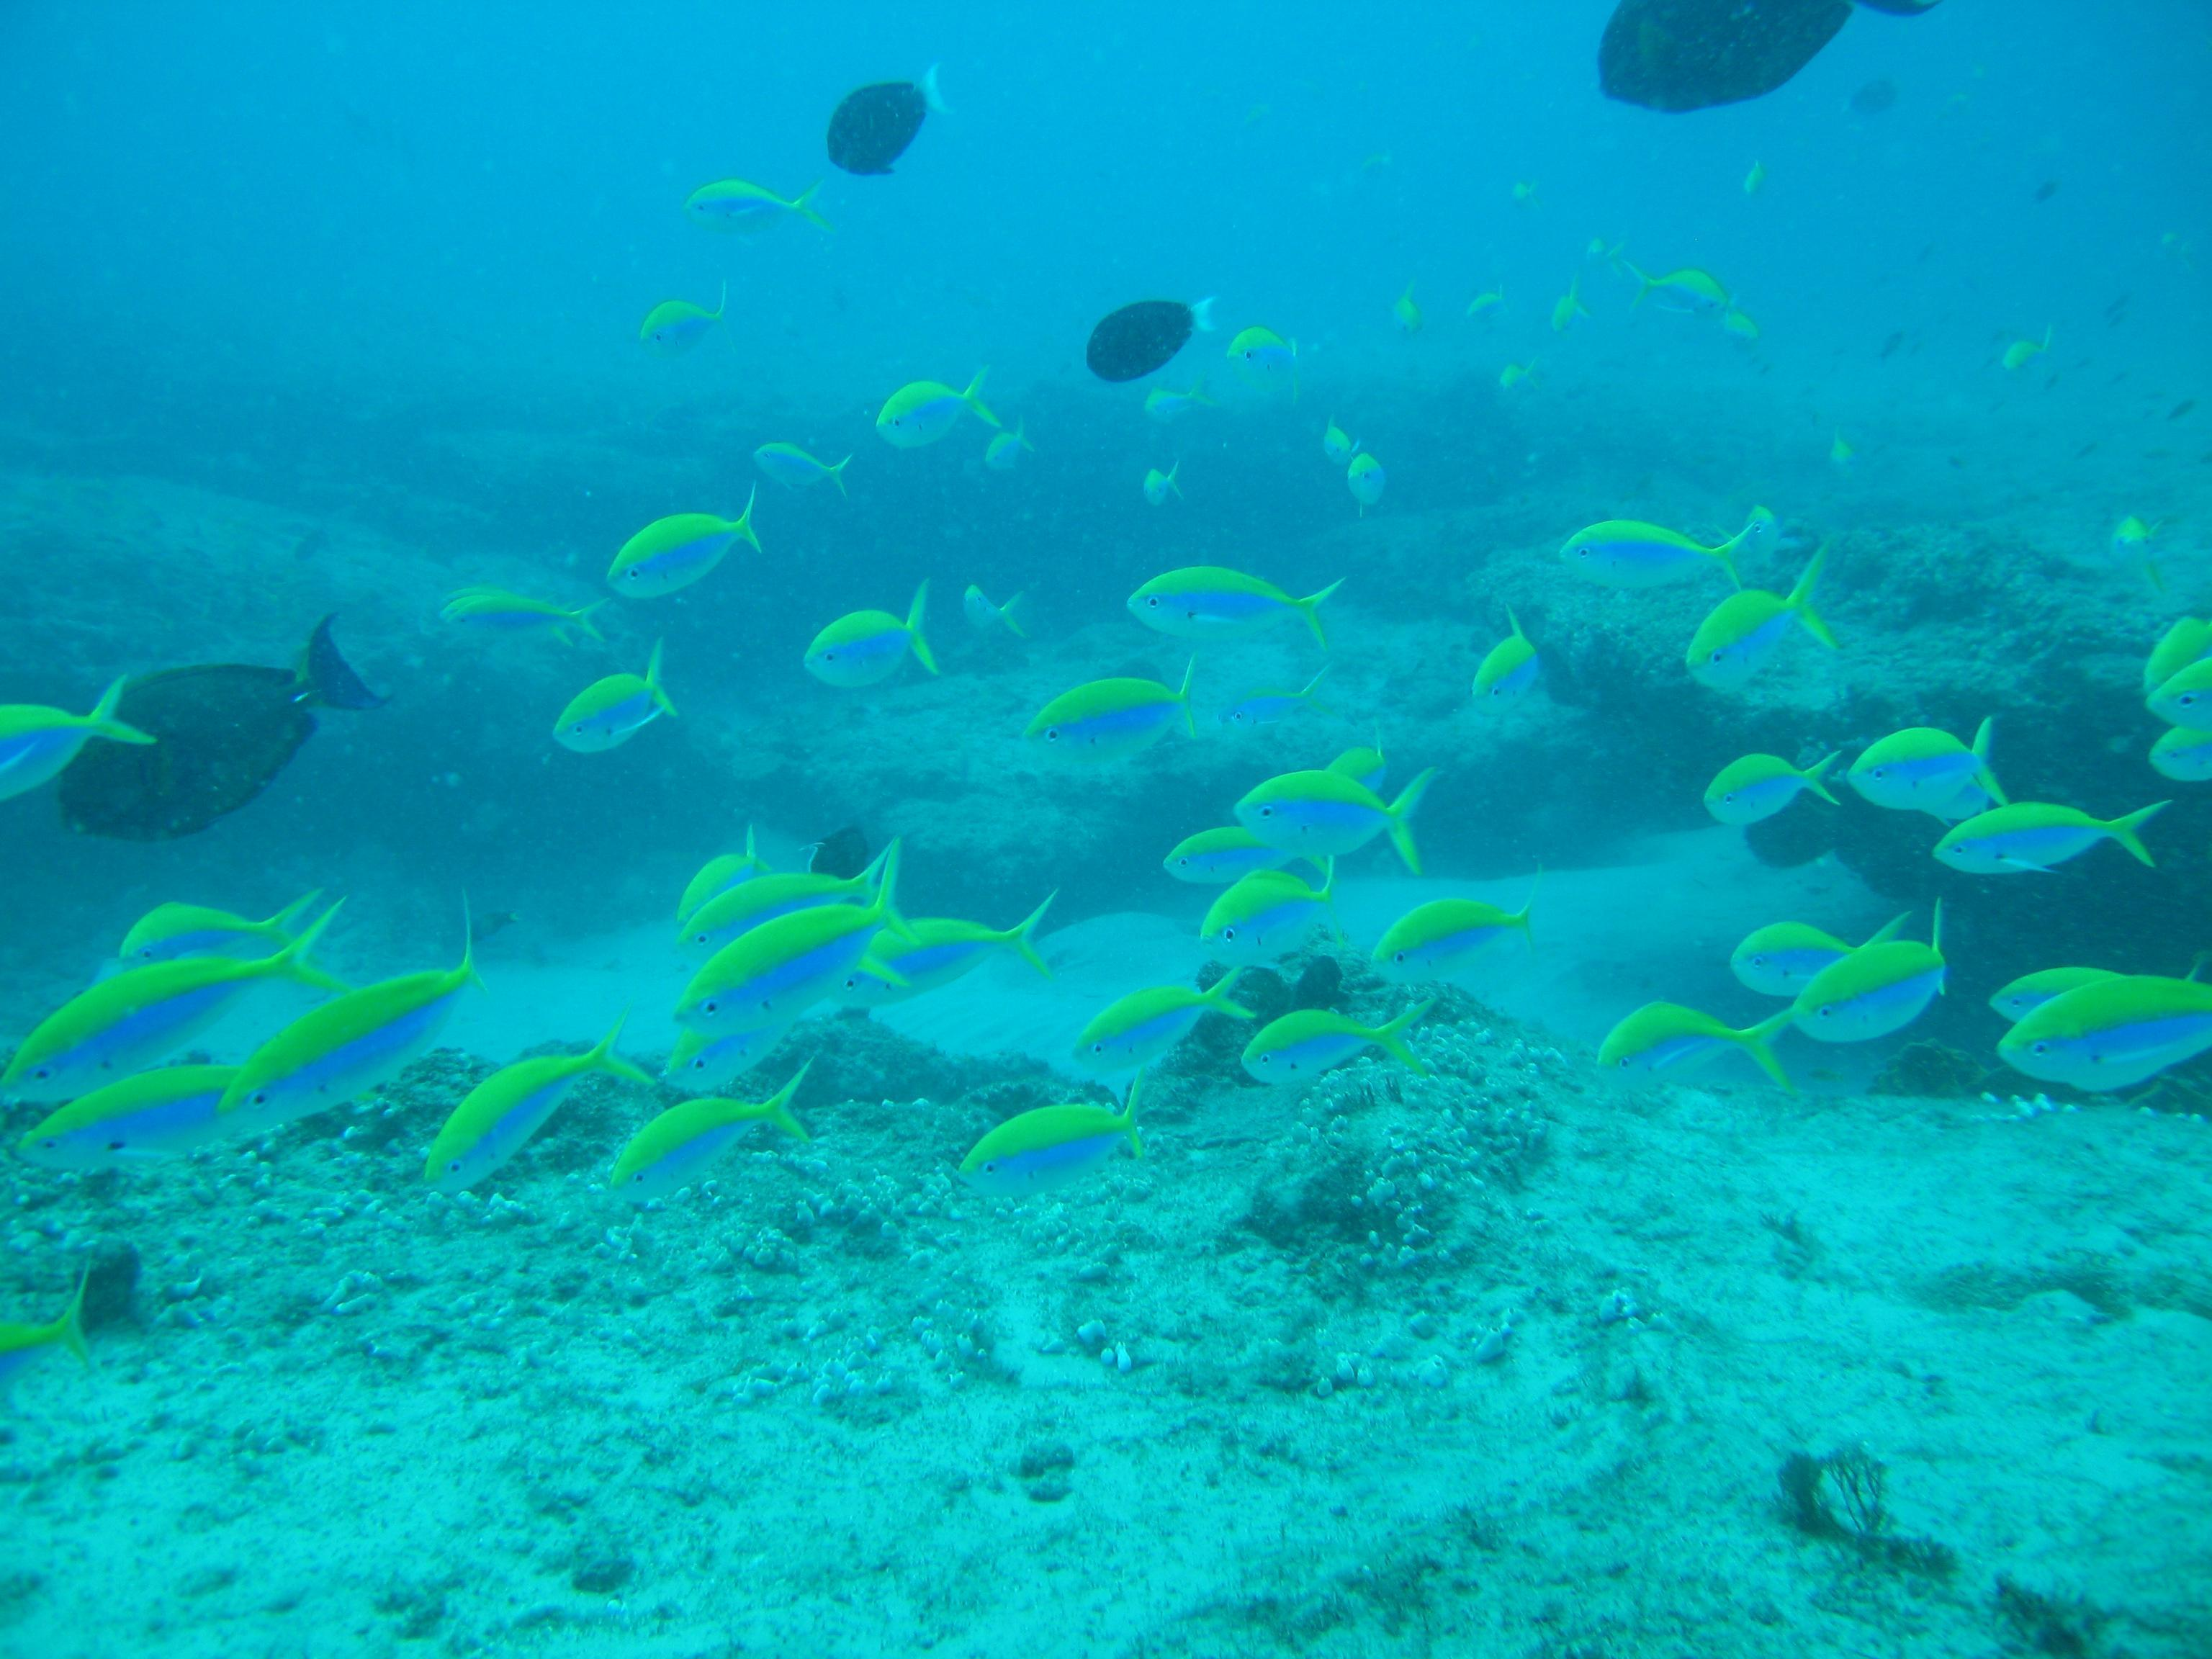Caesio xanthonota: (211, 884, 516, 1171), (2, 899, 402, 1087), (388, 999, 655, 1225), (674, 838, 935, 1054), (523, 472, 805, 638), (1646, 552, 1886, 732), (571, 1072, 864, 1215), (1001, 645, 1275, 796), (948, 1063, 1212, 1215), (1106, 540, 1376, 669), (1212, 746, 1446, 892), (766, 573, 967, 742), (1782, 922, 2006, 1066), (1568, 986, 1801, 1121), (1916, 793, 2175, 911), (1534, 488, 1777, 612), (512, 648, 723, 789), (549, 268, 799, 387), (1353, 864, 1569, 995), (1033, 958, 1258, 1080), (3, 1087, 221, 1209), (632, 155, 859, 260), (838, 357, 1026, 474), (1237, 995, 1453, 1096), (432, 570, 625, 674), (1846, 721, 2043, 817), (1172, 866, 1348, 965), (1672, 746, 1848, 833), (1435, 608, 1566, 718), (2090, 488, 2193, 601), (740, 418, 855, 518), (1204, 329, 1332, 401), (1615, 258, 1743, 328), (1310, 441, 1421, 519), (954, 554, 1035, 657), (968, 415, 1054, 511), (1360, 270, 1449, 357), (1104, 375, 1224, 434), (1115, 455, 1221, 519), (1468, 354, 1568, 403), (1456, 267, 1521, 340), (1494, 153, 1555, 230), (1308, 415, 1372, 469), (1536, 281, 1594, 338)
